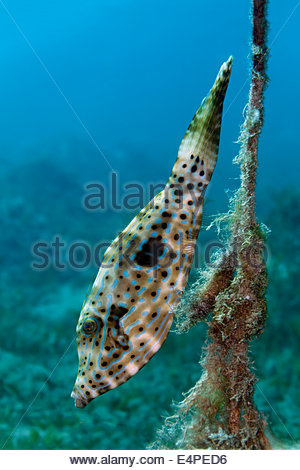Aluterus_scriptus: (69, 53, 233, 413)
